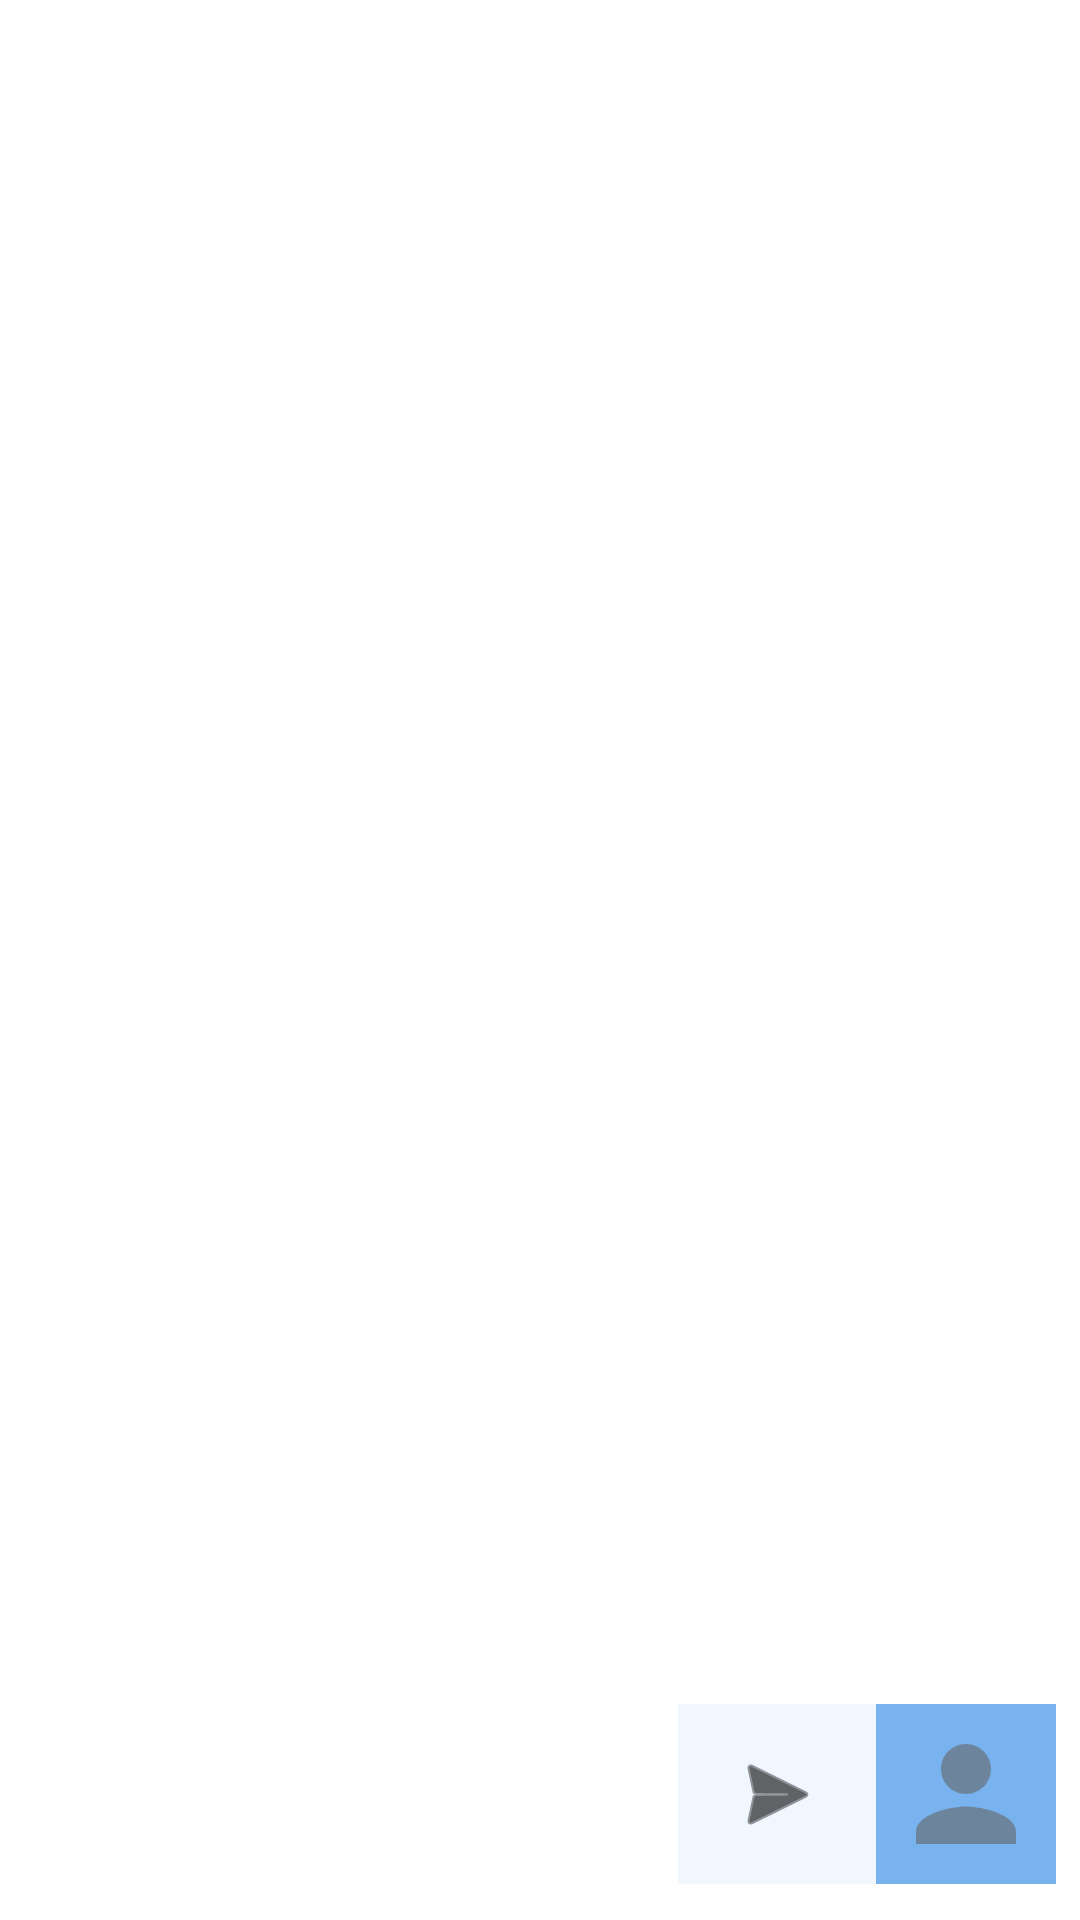

Point at icon controls on the screen. Image size 1080*1920, points as point (x, y).
send: point (778, 1794)
user set: point (966, 1794)
